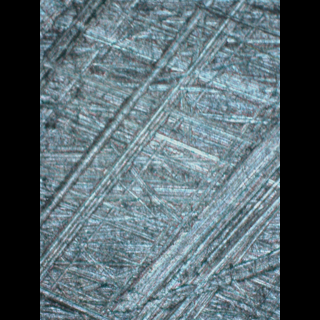d: (40, 0, 279, 318)
